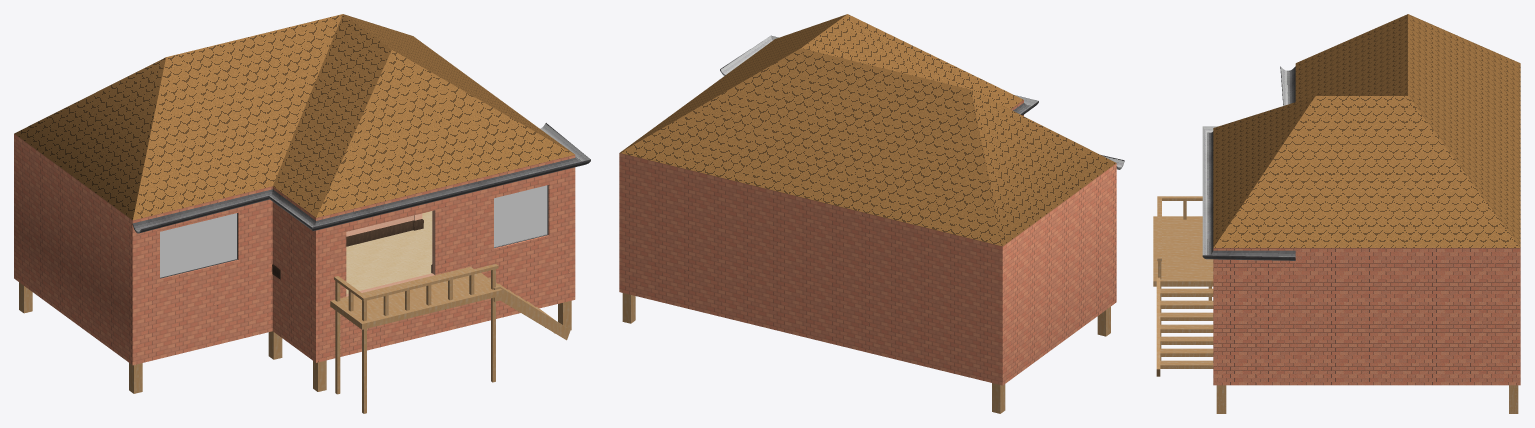
Rendered from house.glb.
3 views of the same model, side by side, from view 1: azimuth 30°, elevation 25°; view 2: azimuth 150°, elevation 25°; view 3: azimuth 270°, elevation 25° (orthographic). The views are drawn at different scales.
Parts seen in each view (by area): view 1: house; view 2: house; view 3: house.
Boxes of the visible parts, x1=… form: house: x1=14, y1=14, x2=590, y2=413; house: x1=619, y1=14, x2=1124, y2=413; house: x1=1153, y1=14, x2=1520, y2=413.
Bounding box in the file's own units: 1095 × 700 × 890.
10 materials, 9 textured.
